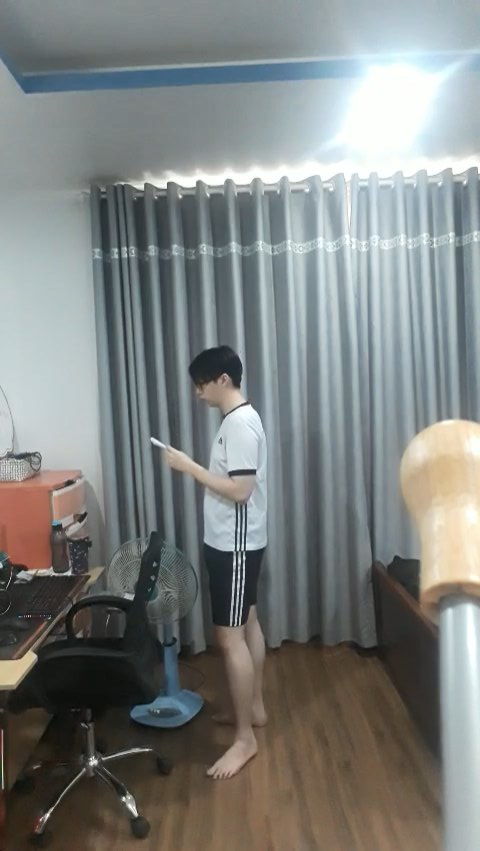cigarette: (150, 437, 167, 448)
person: (157, 343, 282, 807)
